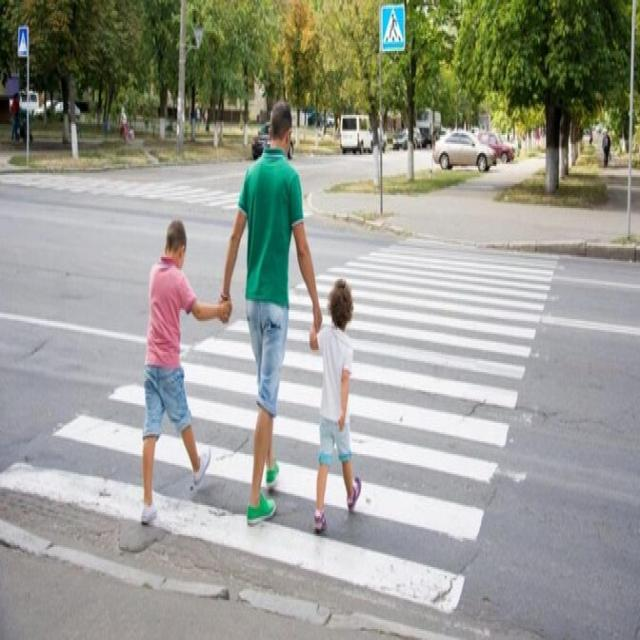Pedestrian crosswalk: (1, 233, 560, 607), (380, 3, 405, 51), (18, 24, 28, 56)
Person: (218, 99, 309, 530), (138, 210, 212, 527), (312, 265, 362, 538)
